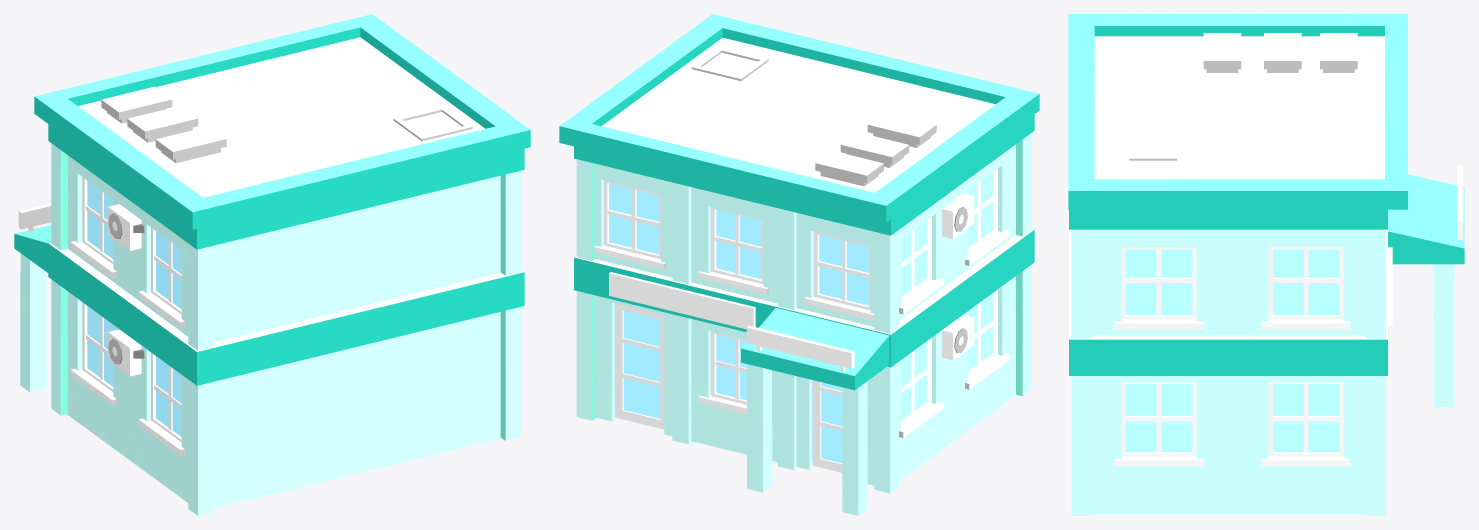
Rendered from bank.glb.
The picture shows the model from 3 angles, left to right: view 1: azimuth 30°, elevation 25°; view 2: azimuth 150°, elevation 25°; view 3: azimuth 270°, elevation 25°; orthographic projection. The views are drawn at different scales.
Parts seen in each view (by area): view 1: bank(Clone); view 2: bank(Clone); view 3: bank(Clone).
Boxes of the visible parts, x1,y1,x2,y2 form: bank(Clone): (14,14,530,515); bank(Clone): (559,14,1039,515); bank(Clone): (1068,14,1464,515).
Size of the model in its own units: 7.15 by 6.28 by 6.76.
1 material, 1 textured.
